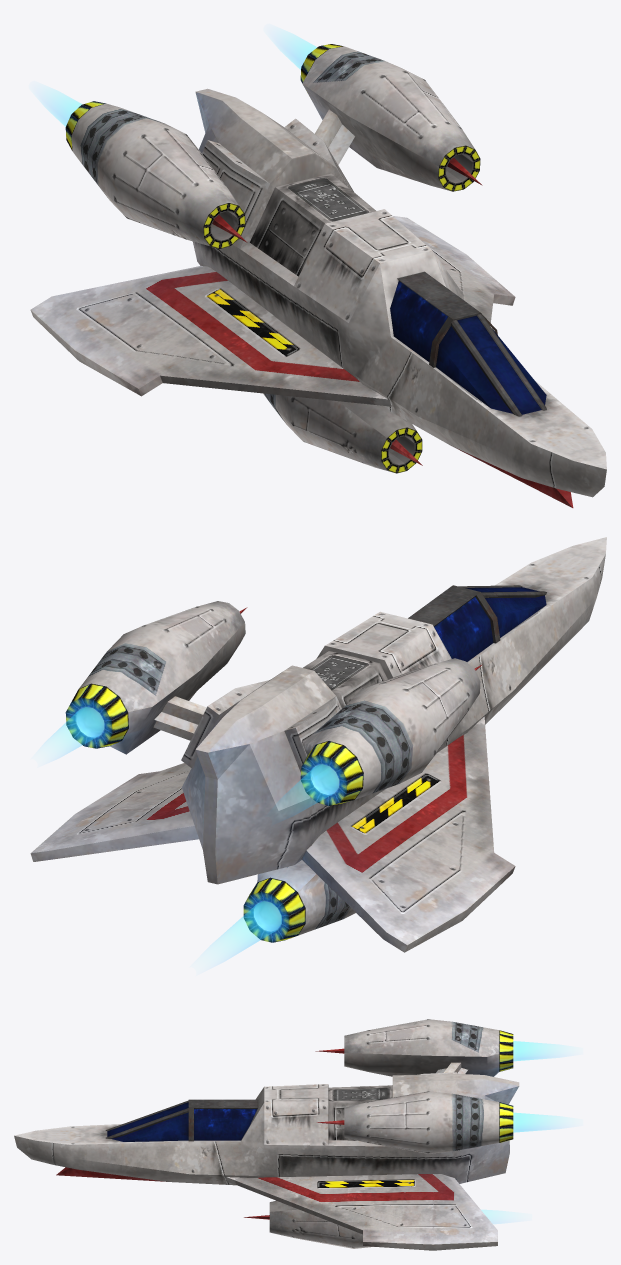
Rendered from shark.gltf.
3 renders of one model, top to bottom at view 1: azimuth 30°, elevation 25°; view 2: azimuth 150°, elevation 25°; view 3: azimuth 270°, elevation 25°, orthographic. The views are drawn at different scales.
Visible parts, largest first — view 1: base_glow, glow; view 2: base_glow, glow; view 3: base_glow, glow.
Boxes of the visible parts, <box> form: base_glow: <box>30,44,606,507</box>; glow: <box>45,34,316,126</box>; base_glow: <box>30,537,606,952</box>; glow: <box>48,707,338,958</box>; base_glow: <box>14,1019,519,1250</box>; glow: <box>482,1041,556,1223</box>.
Bounding box in the file's own units: 4.45 × 3.25 × 9.34.
Materials: 2 (2 with a texture image).
